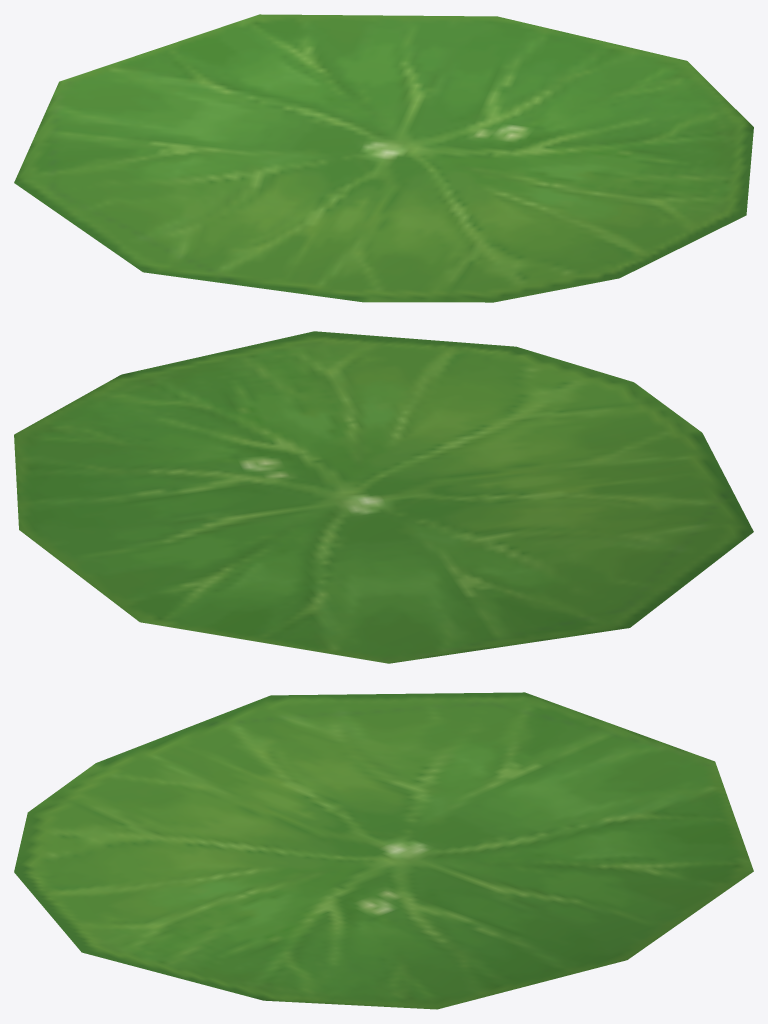
Rendered from fb_plxd_zj_14_d.FBX.
The picture shows the model from 3 angles, top to bottom: view 1: azimuth 30°, elevation 25°; view 2: azimuth 150°, elevation 25°; view 3: azimuth 270°, elevation 25°; orthographic projection. The views are drawn at different scales.
Parts seen in each view (by area): view 1: fb_plxd_zj_14_b; view 2: fb_plxd_zj_14_b; view 3: fb_plxd_zj_14_b.
Part boxes in pixels (x1,y1,x2,y2): fb_plxd_zj_14_b: [14, 14, 753, 302]; fb_plxd_zj_14_b: [14, 331, 753, 663]; fb_plxd_zj_14_b: [14, 692, 753, 1009].
Size of the model in its own units: 65.32 by 0.0793 by 64.56.
1 material, 1 textured.
